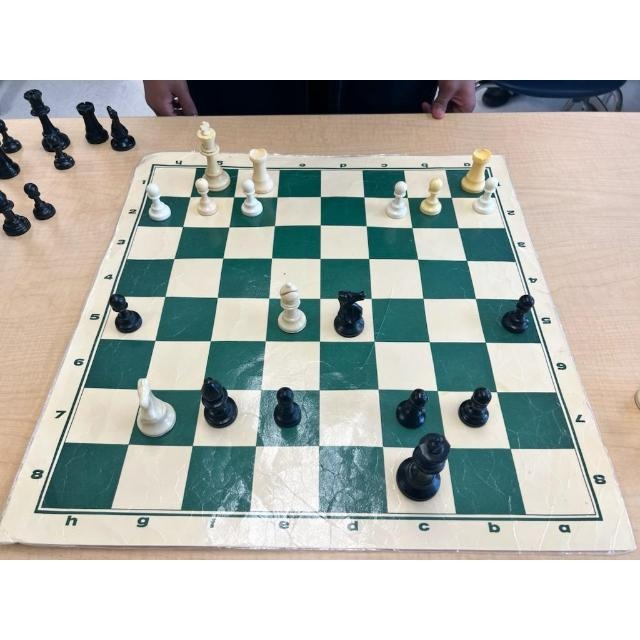black-bishop: (195, 375, 241, 431)
black-king: (394, 430, 452, 502)
black-knight: (329, 287, 370, 339)
black-pawn: (103, 290, 148, 335), (267, 381, 307, 429), (458, 382, 496, 432), (500, 288, 535, 339), (394, 385, 430, 434)
white-bishop: (273, 280, 309, 338)
white-king: (193, 114, 233, 191)
white-knight: (125, 376, 181, 442)
white-pawn: (142, 184, 174, 224), (190, 177, 218, 218), (472, 174, 500, 215), (239, 177, 265, 219), (383, 178, 409, 219), (419, 176, 445, 217)
white-rook: (245, 143, 279, 195), (461, 141, 493, 196)
